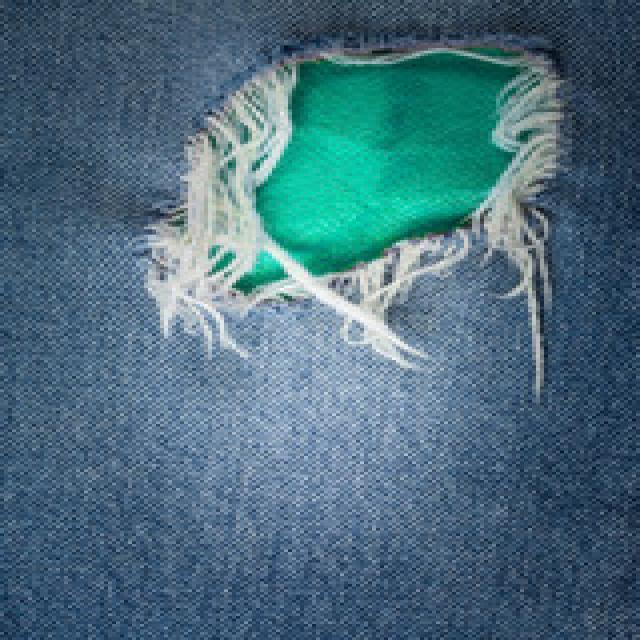Hole: (149, 35, 558, 366)
